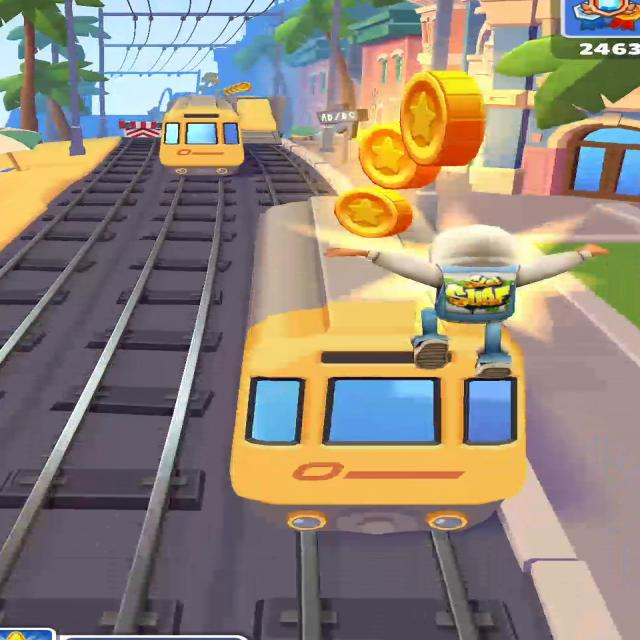climber: (234, 97, 281, 144)
roll blocker: (119, 121, 161, 138)
train: (229, 197, 527, 535), (160, 96, 249, 177)
